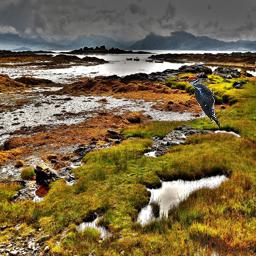Woodpecker: (186, 76, 220, 129)
